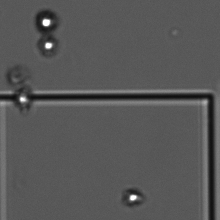Dead Cell: (8, 65, 31, 85)
Living Cell: (33, 9, 60, 33), (122, 186, 146, 207), (38, 35, 59, 57), (14, 88, 33, 111)
